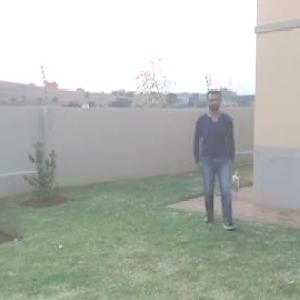follow: (197, 84, 243, 234)
